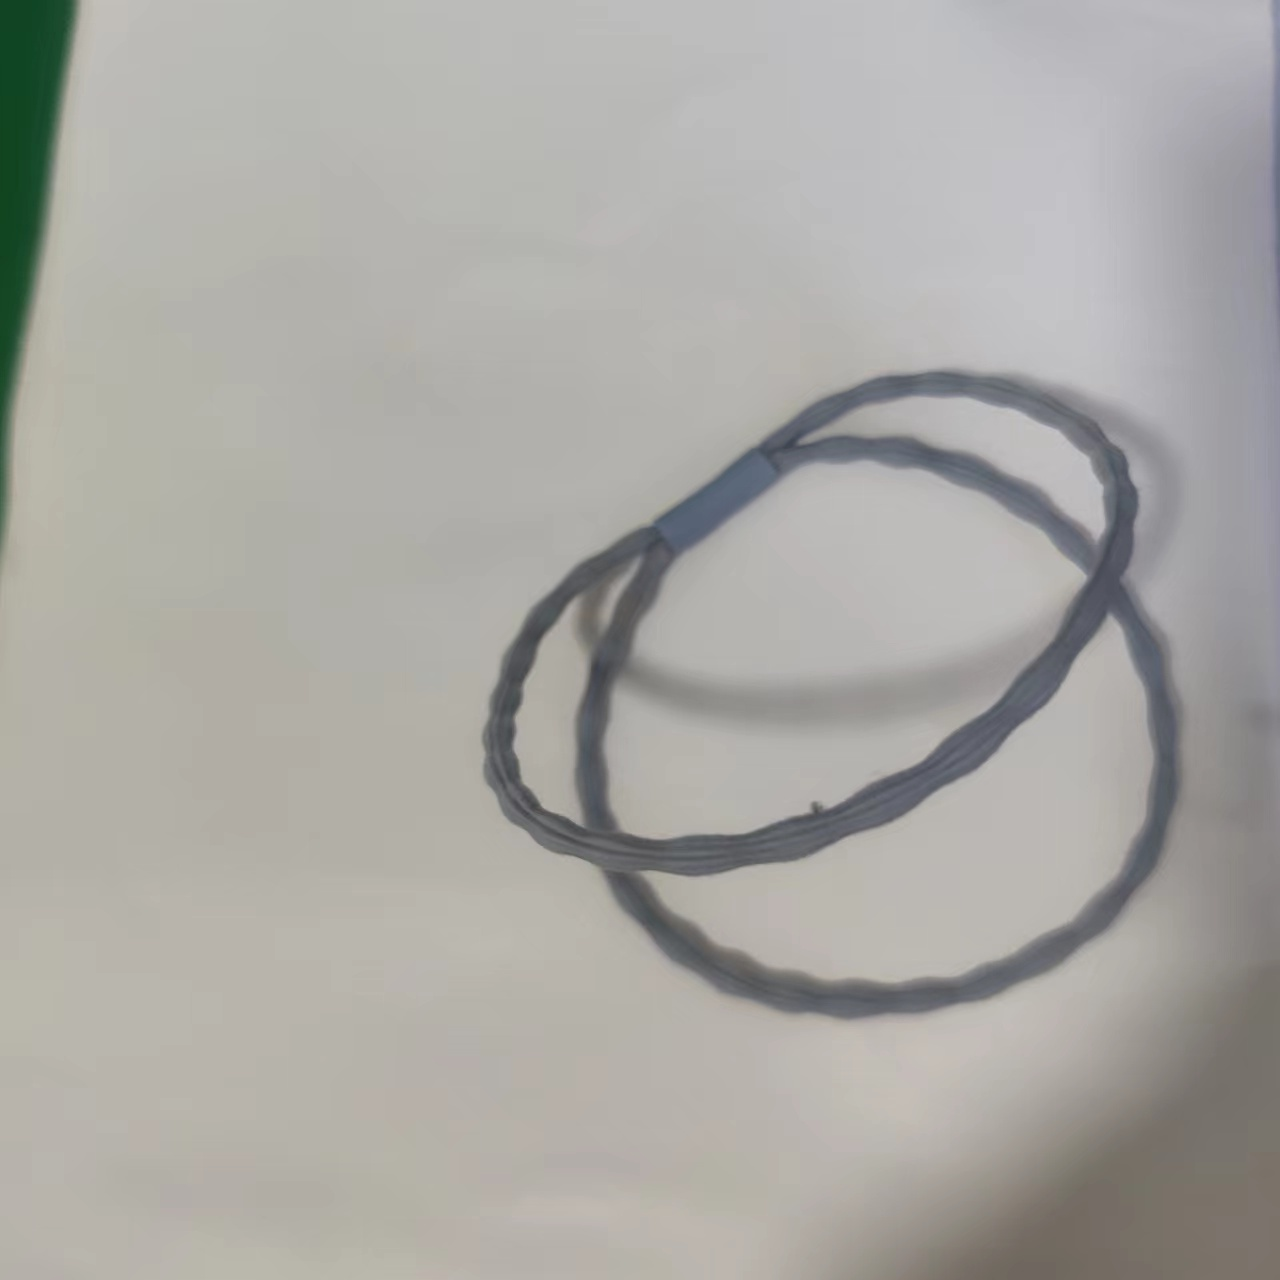9/可回收垃圾/绳子: (478, 367, 1179, 1017)
